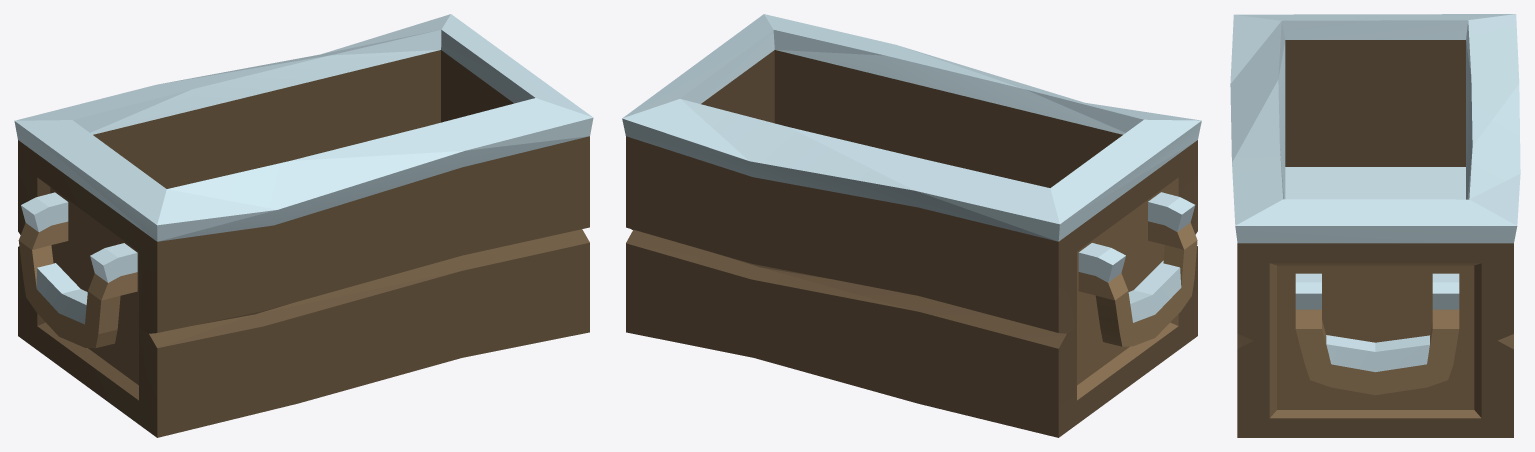
The model's file is Caja_Base01.glb.
3 renders of one model, left to right at view 1: azimuth 30°, elevation 25°; view 2: azimuth 150°, elevation 25°; view 3: azimuth 270°, elevation 25°, orthographic.
Parts seen in each view (by area): view 1: SM_Prop_Crate_Base_01_Snow; view 2: SM_Prop_Crate_Base_01_Snow; view 3: SM_Prop_Crate_Base_01_Snow.
Boxes of the visible parts, left/top/right/bottom form: SM_Prop_Crate_Base_01_Snow: left=14, top=14, right=593, bottom=437; SM_Prop_Crate_Base_01_Snow: left=622, top=14, right=1201, bottom=437; SM_Prop_Crate_Base_01_Snow: left=1230, top=14, right=1520, bottom=437.
Size of the model in its own units: 1.33 by 0.5847 by 0.6881.
1 material, 1 textured.
